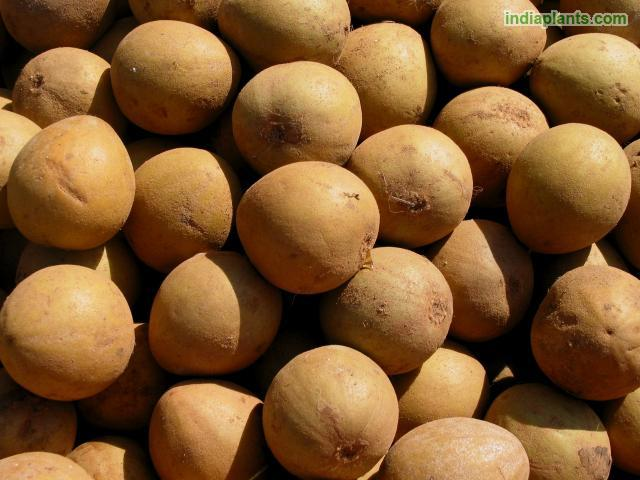xoai: (0, 264, 144, 402), (235, 160, 382, 294), (262, 344, 400, 477), (7, 114, 138, 250), (508, 120, 634, 254)
